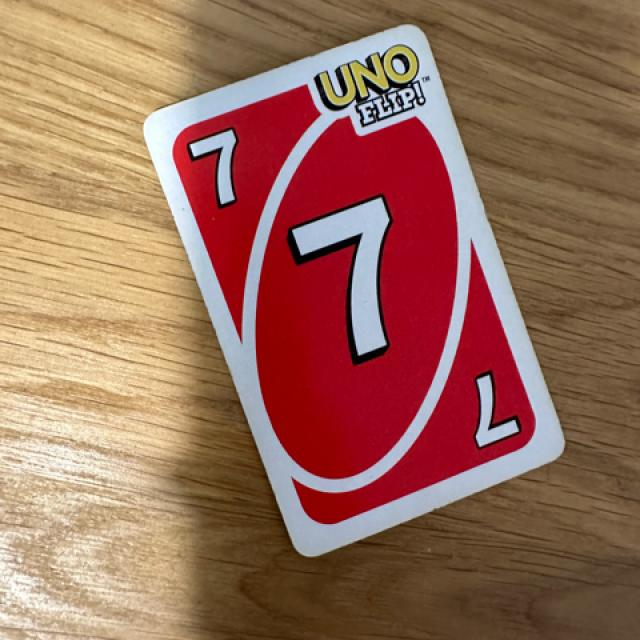lred-7: (182, 116, 276, 223)
